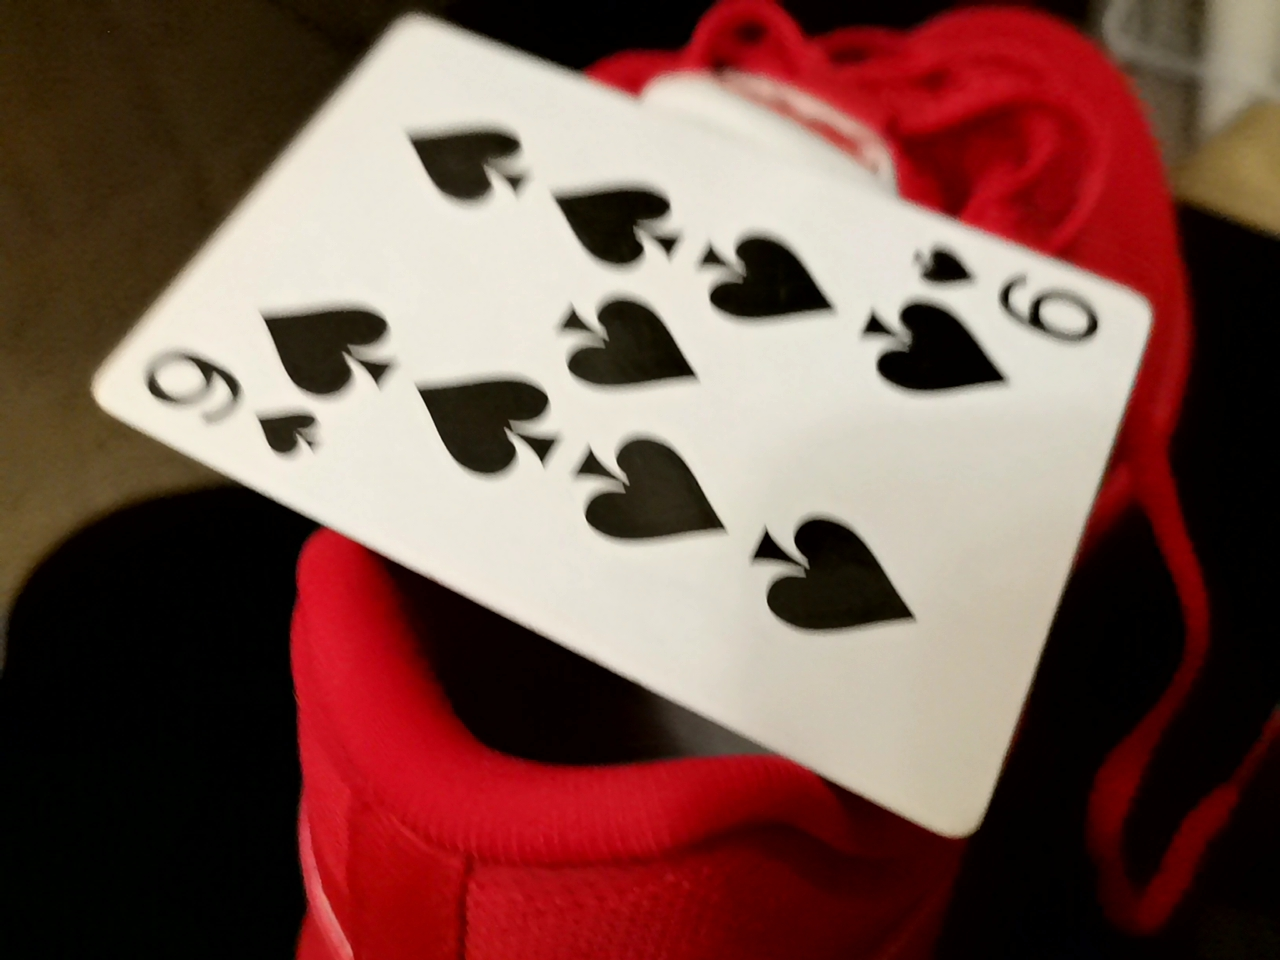ht 9: (13, 10, 1138, 826)
